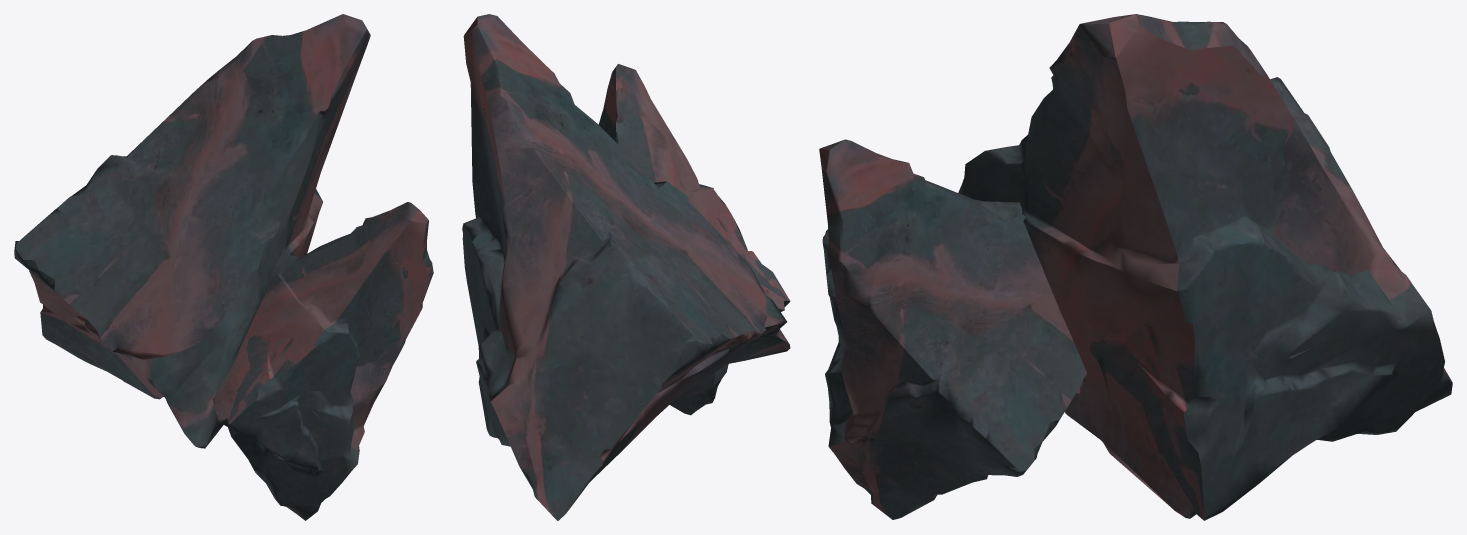
The picture shows the model from 3 angles, left to right: view 1: azimuth 30°, elevation 25°; view 2: azimuth 150°, elevation 25°; view 3: azimuth 270°, elevation 25°; orthographic projection. The views are drawn at different scales.
Parts seen in each view (by area): view 1: SM_VFX_Magic_Fire_BrokenEarth_LOD0; view 2: SM_VFX_Magic_Fire_BrokenEarth_LOD0; view 3: SM_VFX_Magic_Fire_BrokenEarth_LOD0.
Boxes of the visible parts, bbox=[...] form: SM_VFX_Magic_Fire_BrokenEarth_LOD0: bbox=[14, 14, 433, 520]; SM_VFX_Magic_Fire_BrokenEarth_LOD0: bbox=[462, 14, 790, 520]; SM_VFX_Magic_Fire_BrokenEarth_LOD0: bbox=[819, 14, 1452, 520].
Size of the model in its own units: 1.97 by 2.64 by 2.56.
Materials: 1 (1 with a texture image).
